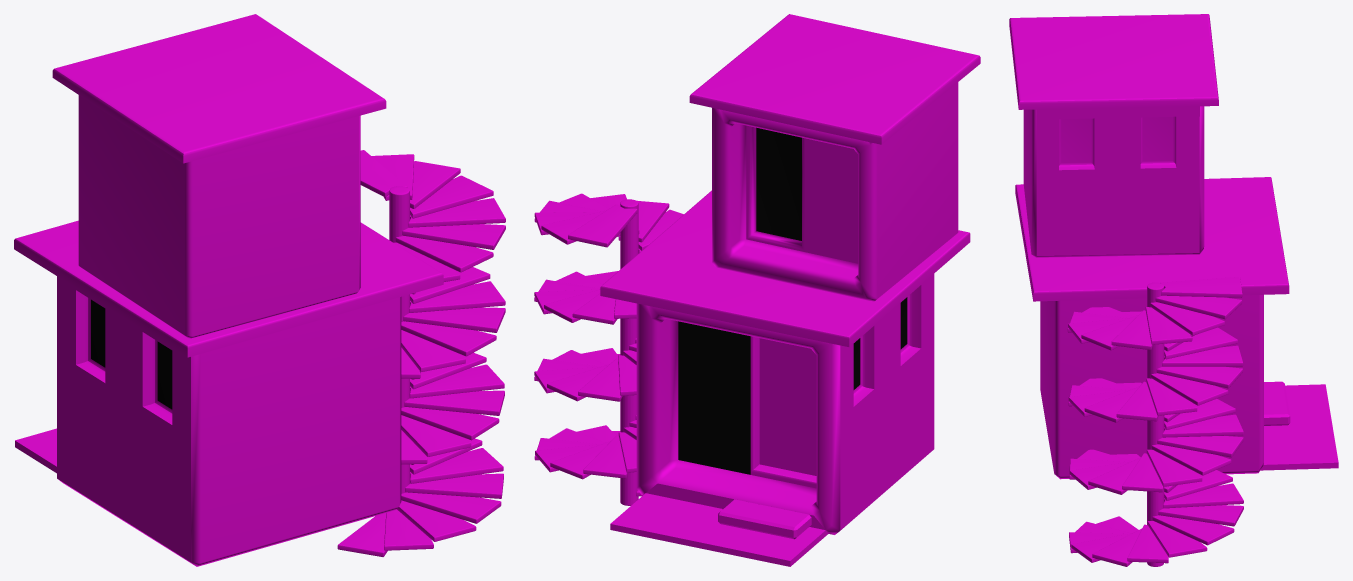
File: GB_Village_House_03.fbx
3 views of the same model, side by side, from view 1: azimuth 30°, elevation 25°; view 2: azimuth 150°, elevation 25°; view 3: azimuth 270°, elevation 25° (orthographic). The views are drawn at different scales.
Visible parts, largest first — view 1: polySurface152; view 2: polySurface152; view 3: polySurface152.
Boxes of the visible parts, x1,y1,x2,y2 form: polySurface152: [14, 14, 505, 566]; polySurface152: [534, 14, 980, 566]; polySurface152: [1009, 14, 1338, 566].
Bounding box in the file's own units: 107 × 128 × 90.33.
